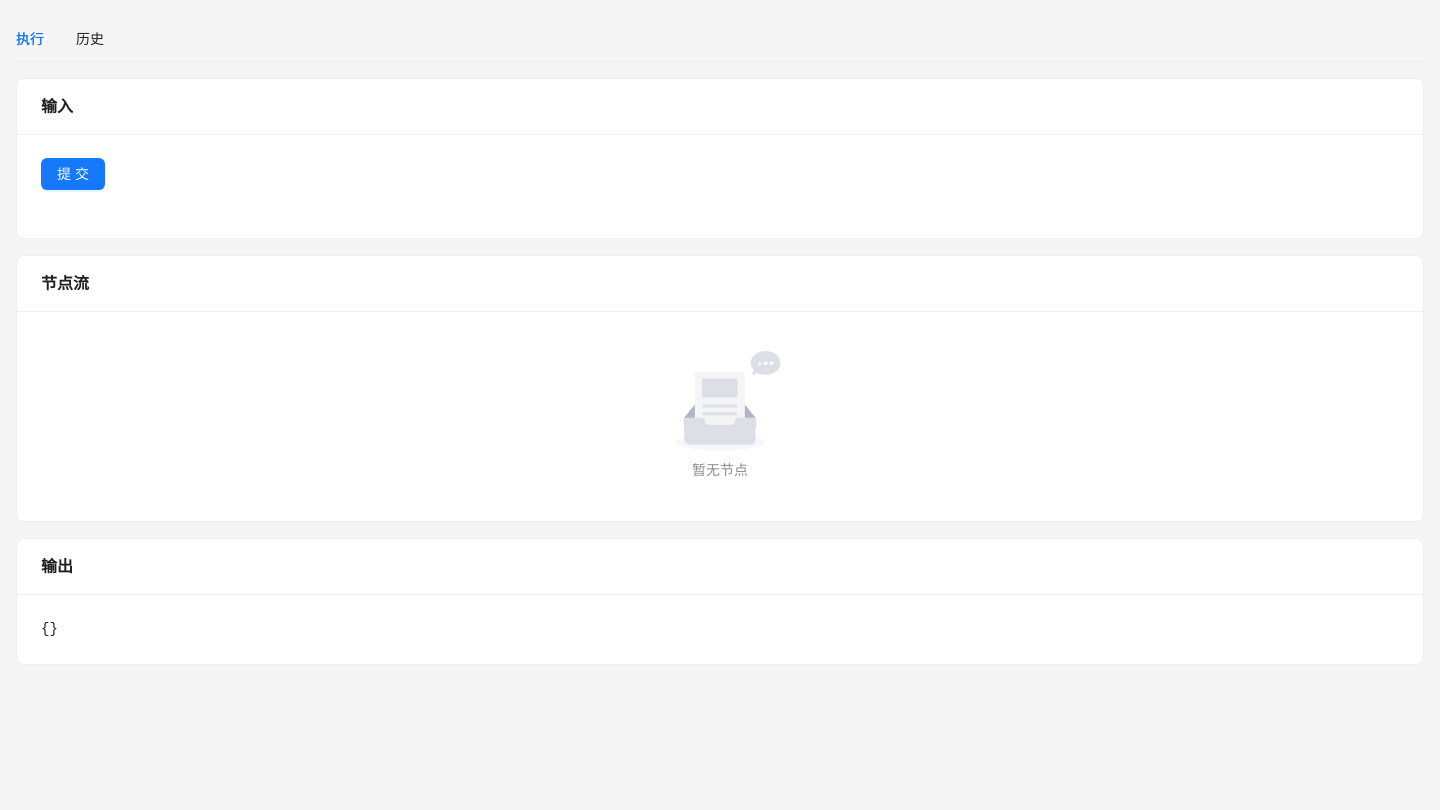
Test: <WorkflowRunPage> (TASK-77) › AC#2(c) — submit + mock runWorkflow pushes 3 NcmuSseEvent → NodeTraceViewer renders 3 rows
Click the button "提 交" at (73, 174), box [41, 158, 105, 190]
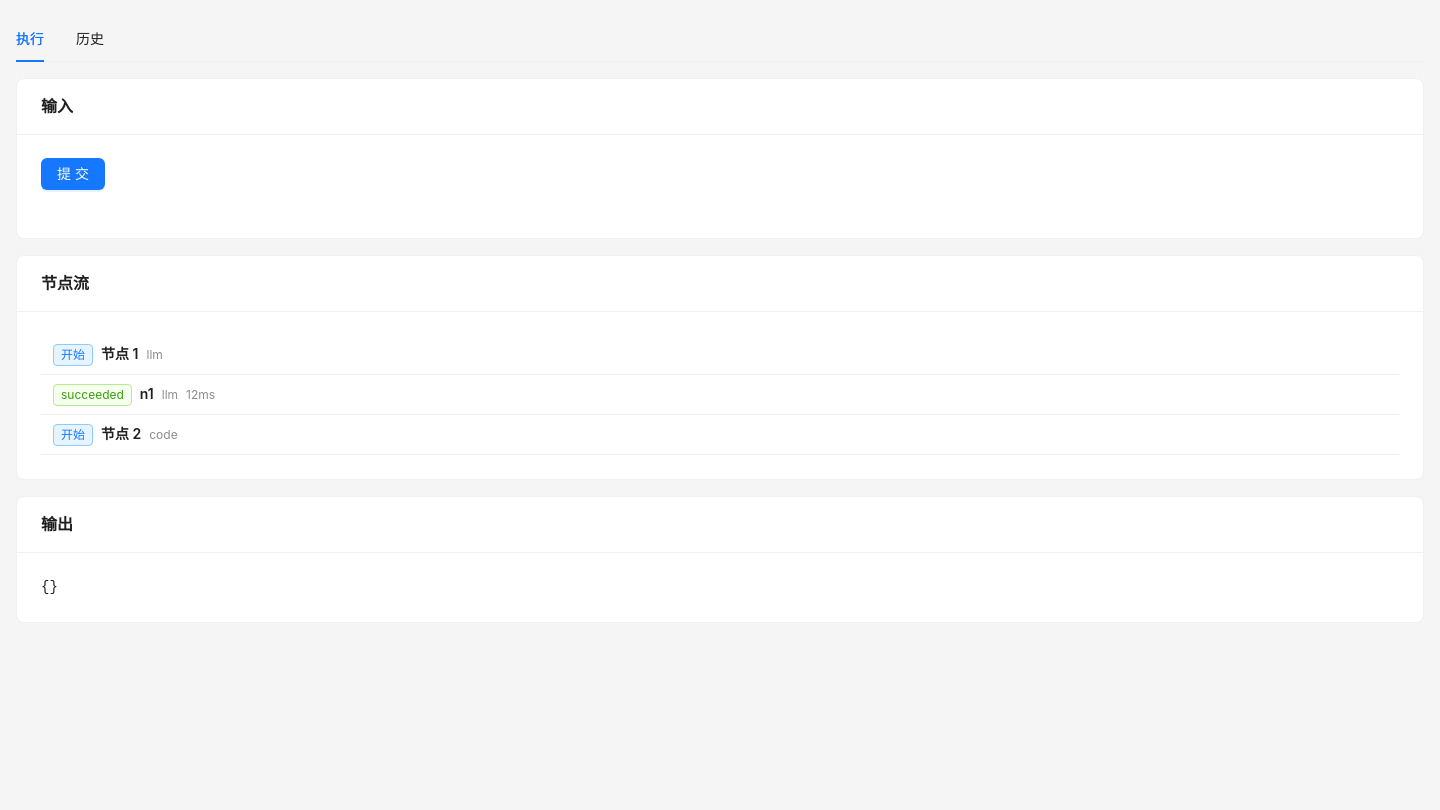
Expected: the element with test id "node-trace-empty" is gone
Expected: the number of list items with test id "node-trace-row" is 3, [41, 335, 1399, 375]; [41, 375, 1399, 415]; [41, 415, 1399, 455]
